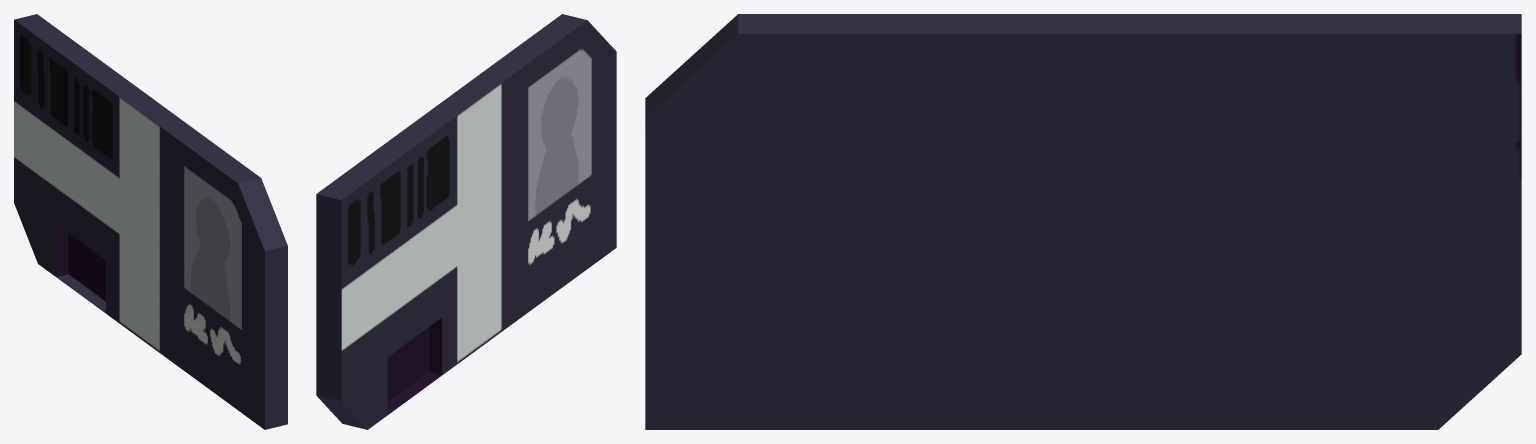
The model's file is CardKey.fbx.
3 renders of one model, left to right at view 1: azimuth 30°, elevation 25°; view 2: azimuth 150°, elevation 25°; view 3: azimuth 270°, elevation 25°, orthographic. The views are drawn at different scales.
Visible parts, largest first — view 1: Cube; view 2: Cube; view 3: Cube.
Part boxes in pixels (left/top/right/bottom): Cube: left=14, top=14, right=287, bottom=429; Cube: left=316, top=14, right=616, bottom=429; Cube: left=645, top=14, right=1521, bottom=429.
Size of the model in its own units: 21.25 by 200 by 401.
